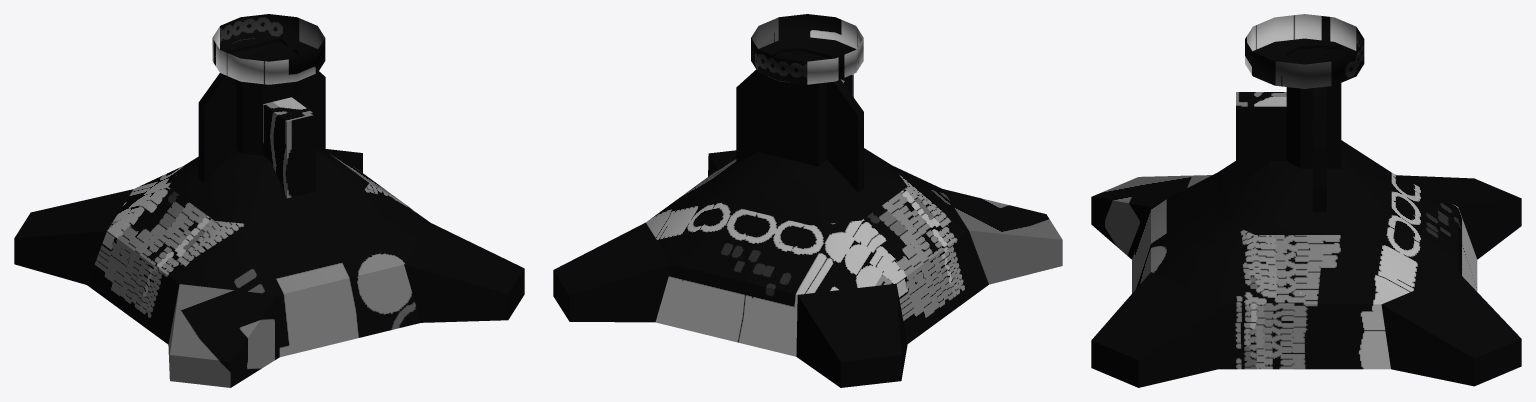
File: turret_base.obj
The picture shows the model from 3 angles, left to right: view 1: azimuth 30°, elevation 25°; view 2: azimuth 150°, elevation 25°; view 3: azimuth 270°, elevation 25°; orthographic projection. The views are drawn at different scales.
Parts seen in each view (by area): view 1: turret; view 2: turret; view 3: turret.
Part boxes in pixels (left/top/right/bottom): turret: left=14, top=14, right=524, bottom=387; turret: left=553, top=14, right=1062, bottom=387; turret: left=1091, top=14, right=1521, bottom=387.
Bounding box in the file's own units: 0.5026 × 0.3285 × 0.4983.
